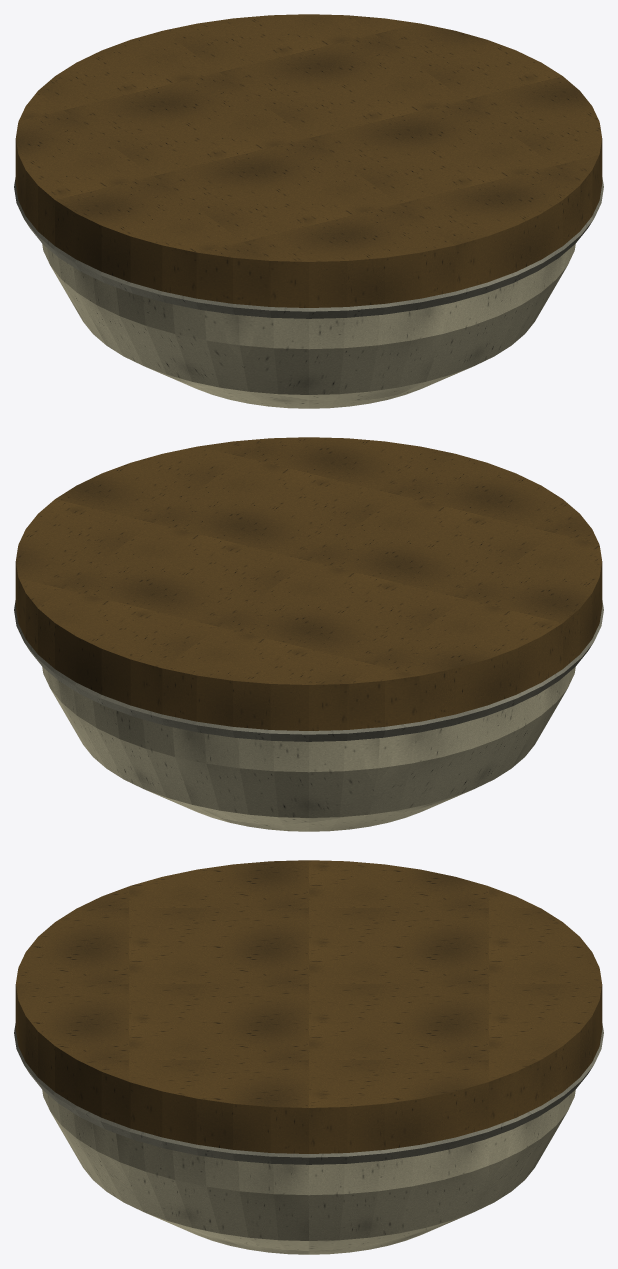
Rendered from frosted_dome_light.glb.
3 renders of one model, top to bottom at view 1: azimuth 30°, elevation 25°; view 2: azimuth 150°, elevation 25°; view 3: azimuth 270°, elevation 25°, orthographic.
Visible parts, largest first — view 1: frosted_dome_light; view 2: frosted_dome_light; view 3: frosted_dome_light.
Part boxes in pixels (x1,y1,x2,y2): frosted_dome_light: [14, 14, 603, 408]; frosted_dome_light: [14, 437, 603, 831]; frosted_dome_light: [14, 860, 603, 1254].
Size of the model in its own units: 0.328 by 0.151 by 0.328.
Materials: 3 (3 with a texture image).
